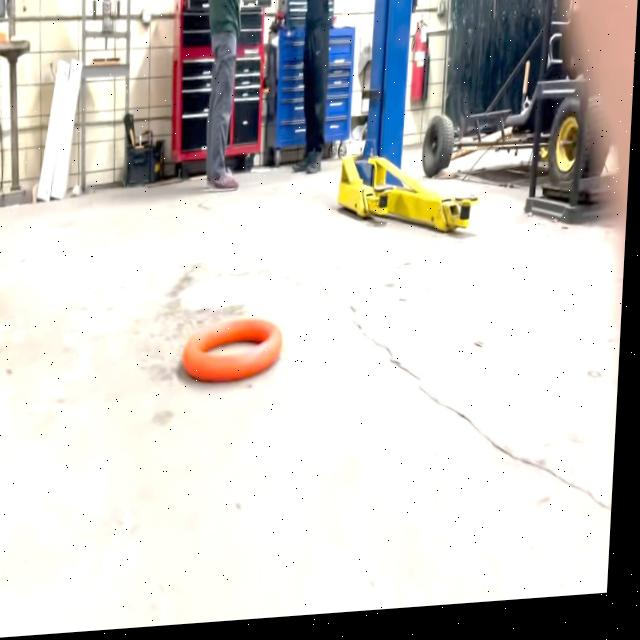note: (181, 314, 288, 388)
